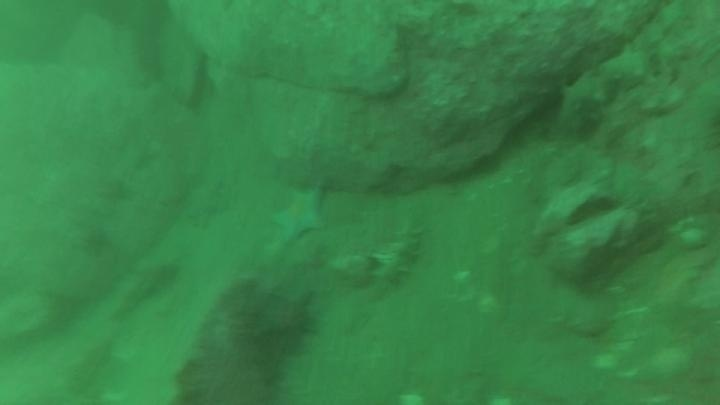holothurian: (554, 45, 647, 137), (364, 220, 426, 302), (106, 257, 182, 320)
starfish: (249, 285, 321, 355), (269, 184, 329, 245)
